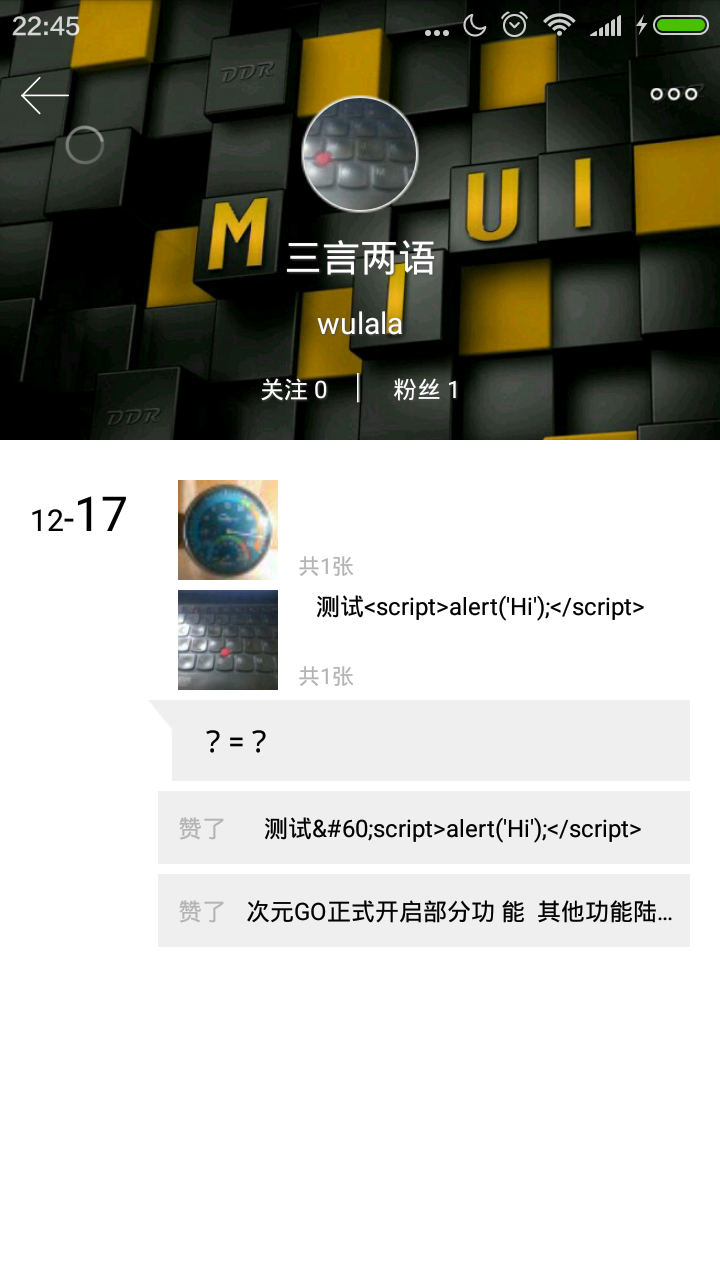textview: (128, 689, 717, 956)
